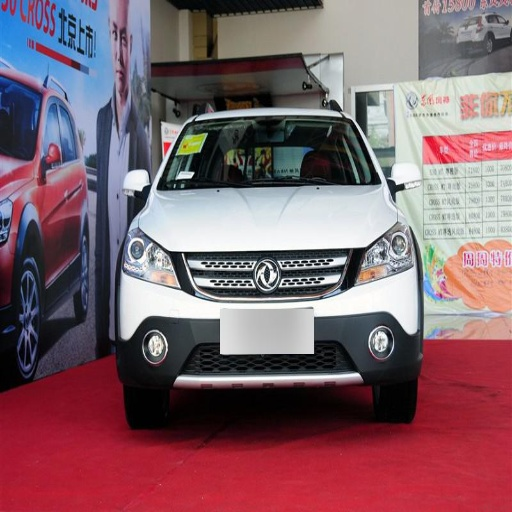front_bumper: (119, 247, 420, 396)
front_glass: (159, 116, 380, 190)
front_left_door: (39, 103, 78, 279)
front_right_light: (123, 229, 181, 287)
hood: (142, 185, 399, 251)
